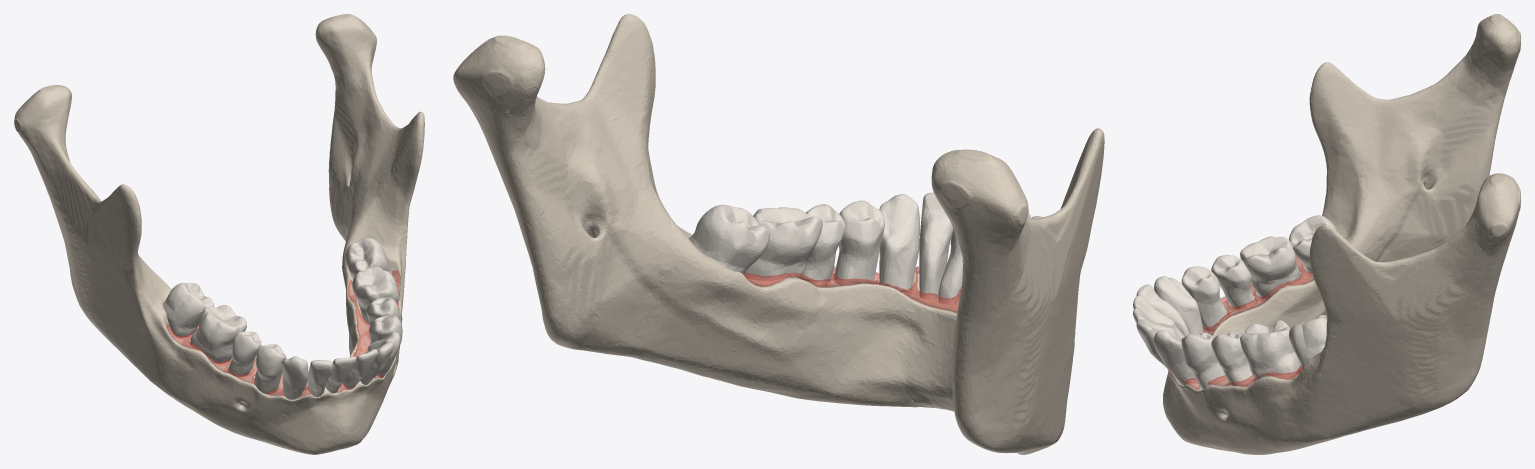
File: stage-1.glb
3 views of the same model, side by side, from view 1: azimuth 30°, elevation 25°; view 2: azimuth 150°, elevation 25°; view 3: azimuth 270°, elevation 25° (orthographic). The views are drawn at different scales.
Visible parts, largest first — view 1: bone, teeth, lost; view 2: bone, teeth, lost; view 3: bone, teeth, lost.
Boxes of the visible parts, box(x1,y1,x2,y2) form: bone: box(14, 14, 424, 454); teeth: box(163, 237, 402, 399); lost: box(166, 270, 400, 396); bone: box(453, 14, 1104, 454); teeth: box(689, 192, 1043, 304); lost: box(744, 266, 961, 312); bone: box(1163, 14, 1520, 454); teeth: box(1133, 215, 1336, 389); lost: box(1167, 256, 1313, 389).
Bounding box in the file's own units: 0.1032 × 0.082 × 0.0867.
